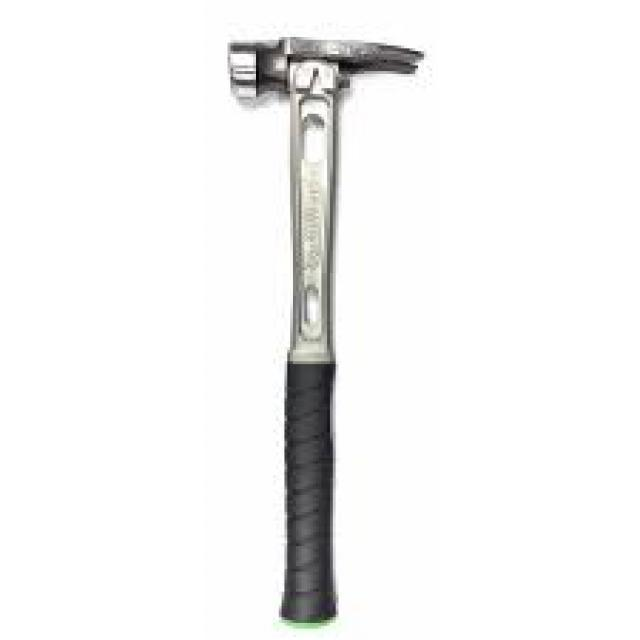hammer: (210, 23, 433, 626)
